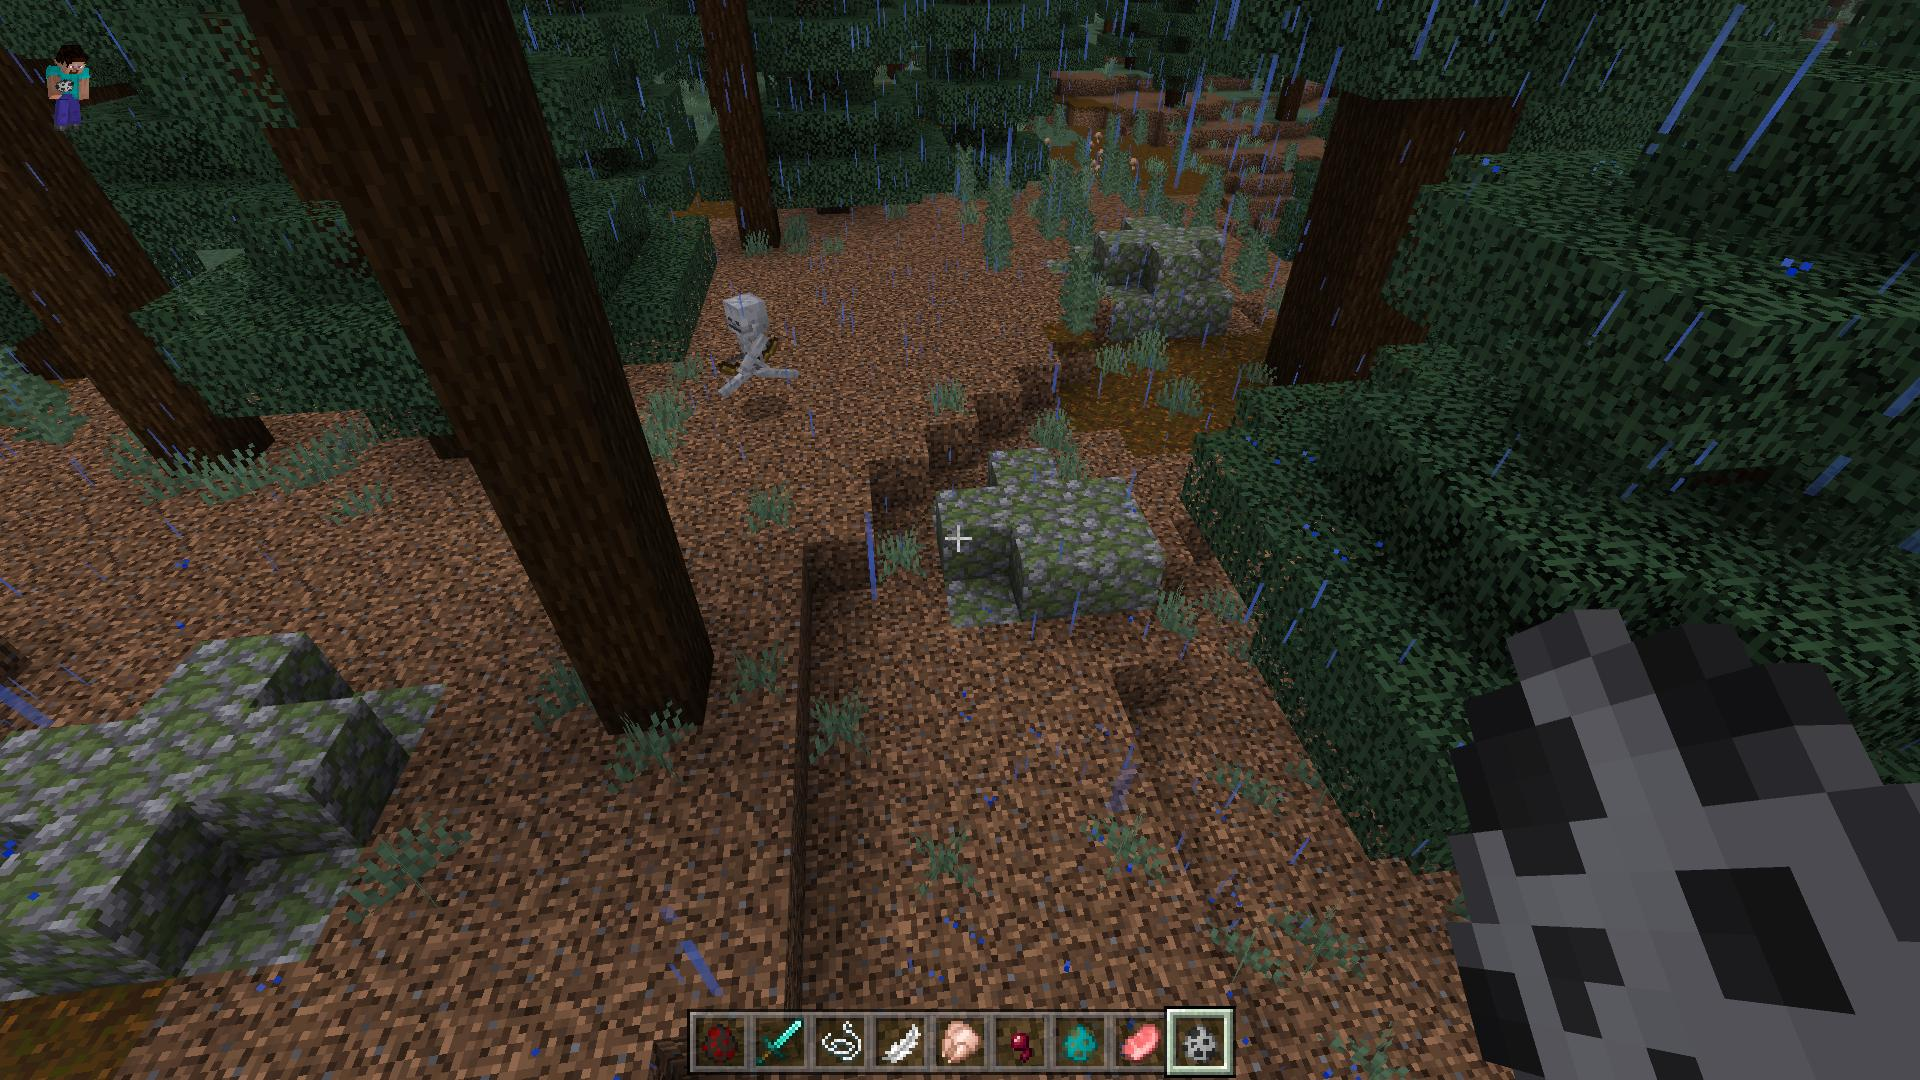skeleton: (712, 293, 804, 410)
